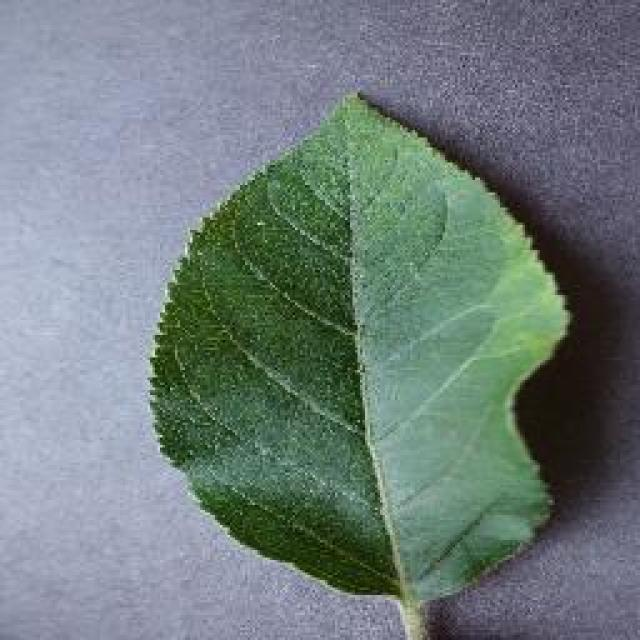apple healthy: (145, 88, 573, 638)
